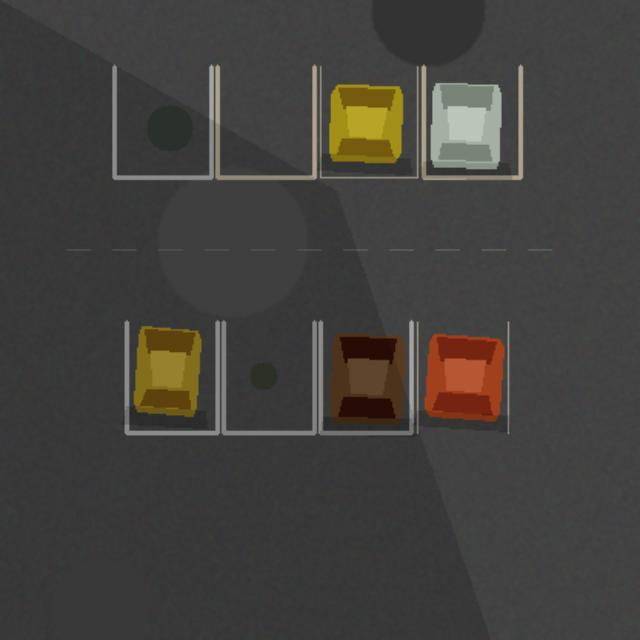space-empty: (114, 66, 211, 177), (217, 66, 314, 177), (223, 322, 314, 432)
space-occupied: (320, 66, 417, 177), (423, 66, 520, 177), (126, 322, 217, 432), (320, 322, 411, 432), (417, 322, 508, 432)
